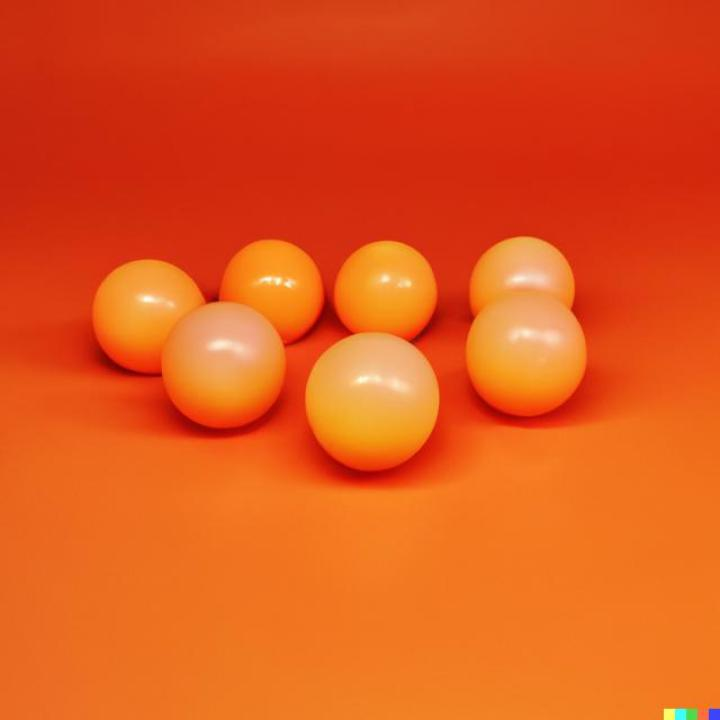orange: (305, 332, 440, 474), (162, 302, 286, 430), (465, 290, 588, 419), (94, 259, 205, 374), (335, 242, 438, 342)
